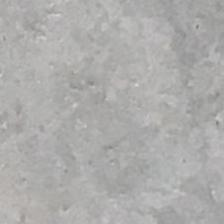Non_Crack: (16, 16, 224, 224)
